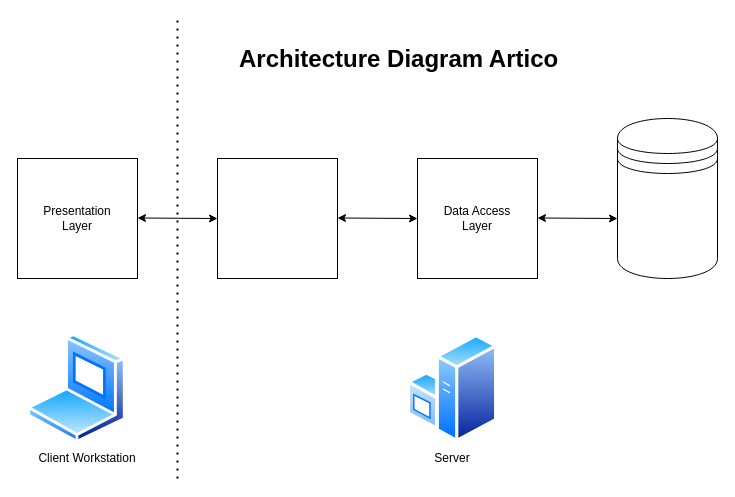
The diagram is 735 pixels wide and 497 high, and some of its shapes have lost their labels. Here are the shapes that lost their labels. From the top down, the box of each, then its label:
(216, 158, 338, 278): Workflow & Business Logic Layert
(616, 118, 718, 278): Data Store
